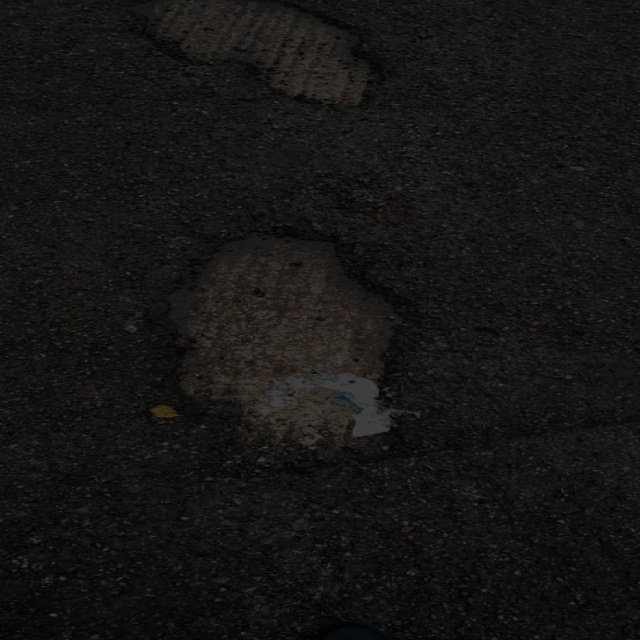Pothole: (154, 225, 422, 452), (131, 0, 387, 110)
